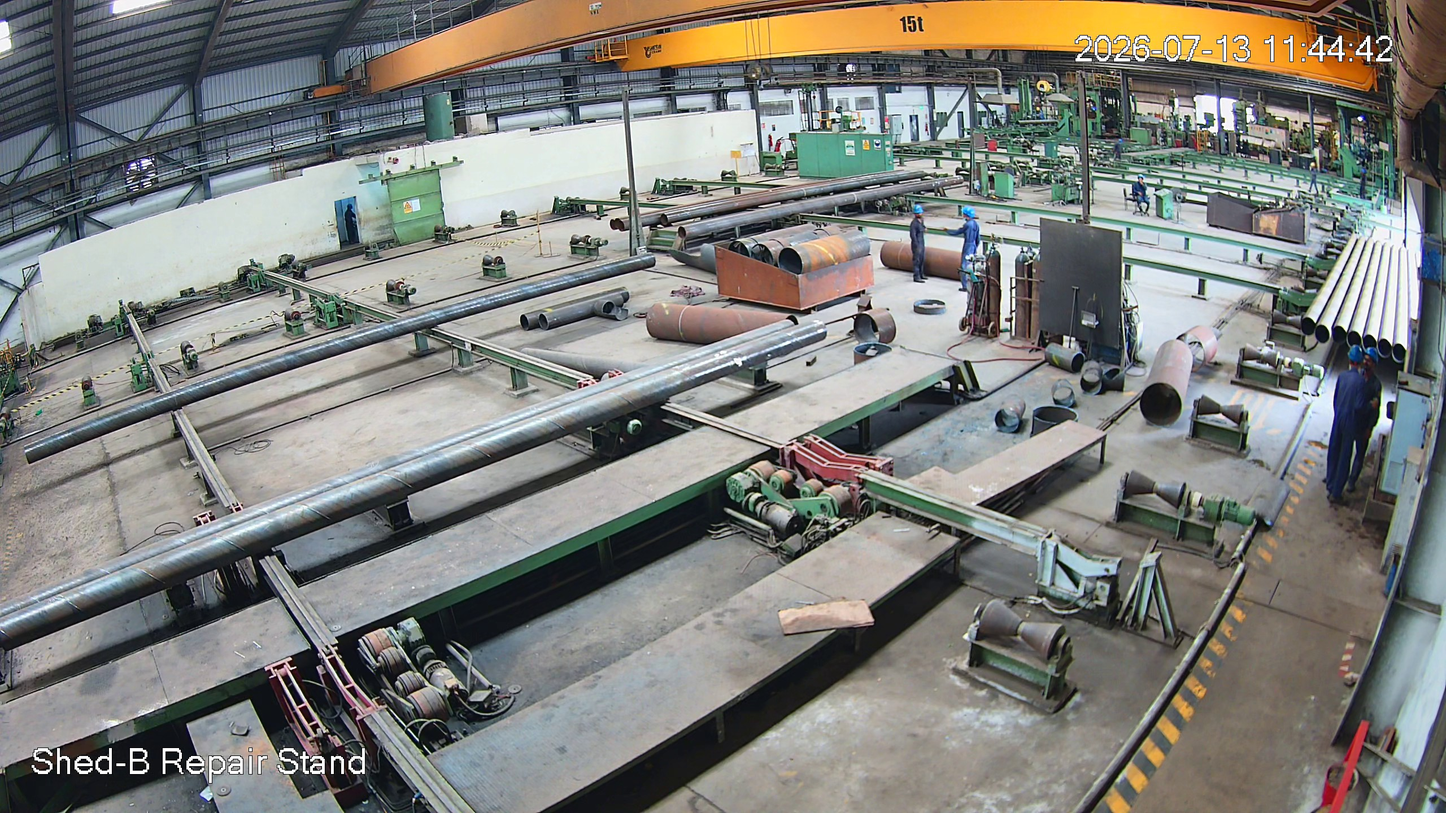Helmet: (1343, 343, 1367, 375), (962, 206, 981, 224), (911, 203, 926, 221)
Person: (1324, 346, 1367, 501), (956, 209, 982, 289), (905, 205, 930, 285)
